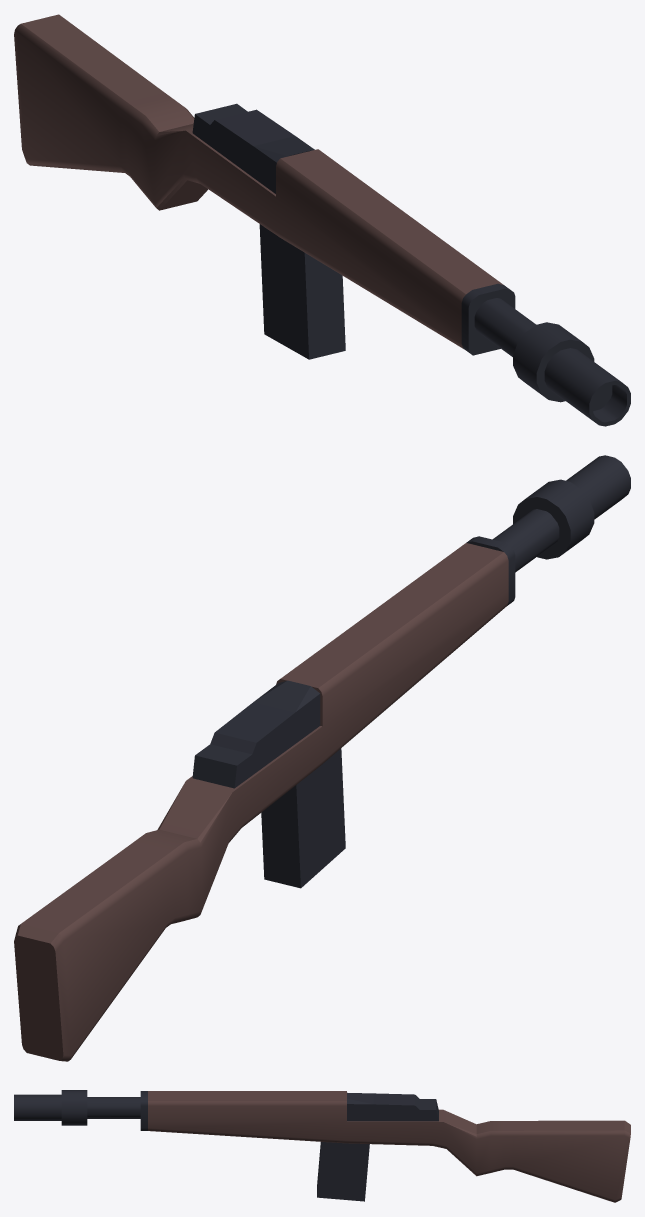
File: Gun.fbx
The picture shows the model from 3 angles, top to bottom: view 1: azimuth 30°, elevation 25°; view 2: azimuth 150°, elevation 25°; view 3: azimuth 270°, elevation 25°; orthographic projection. The views are drawn at different scales.
Visible parts, largest first — view 1: Gun; view 2: Gun; view 3: Gun.
Part boxes in pixels (x1=…): Gun: x1=14, y1=14, x2=630, y2=426; Gun: x1=14, y1=455, x2=630, y2=1061; Gun: x1=14, y1=1090, x2=630, y2=1202.
Bounding box in the file's own units: 0.0614 × 0.2015 × 1.06.
